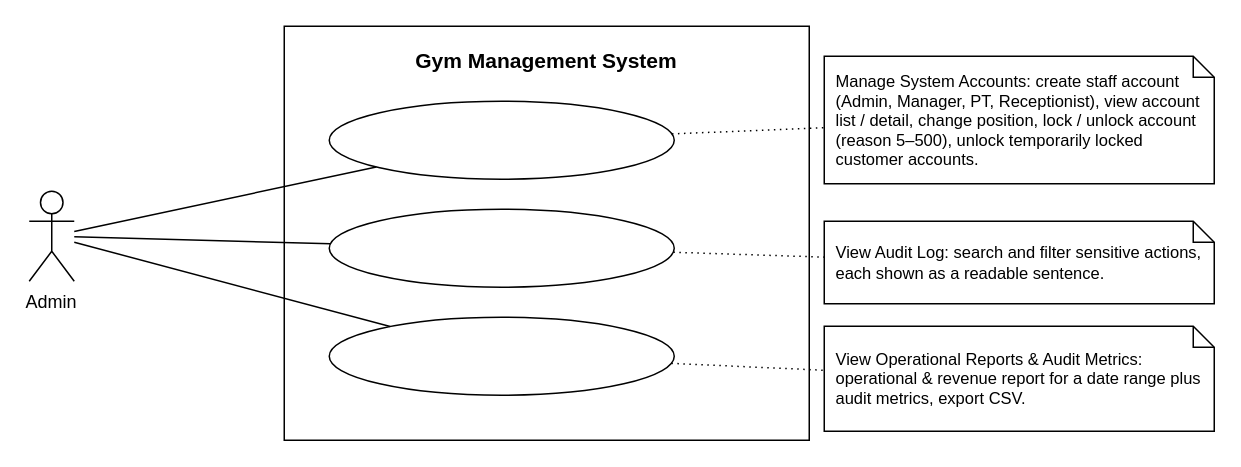
Some shapes in this 1241 by 467 pixel diagram are drawn without their labels. Here are the shapes that lost their labels. From the top down, the box of each, then its label:
(328, 100, 674, 179): Manage System Accounts
(328, 208, 674, 287): View Audit Log
(328, 316, 674, 395): View Operational Reports & Audit Metrics
